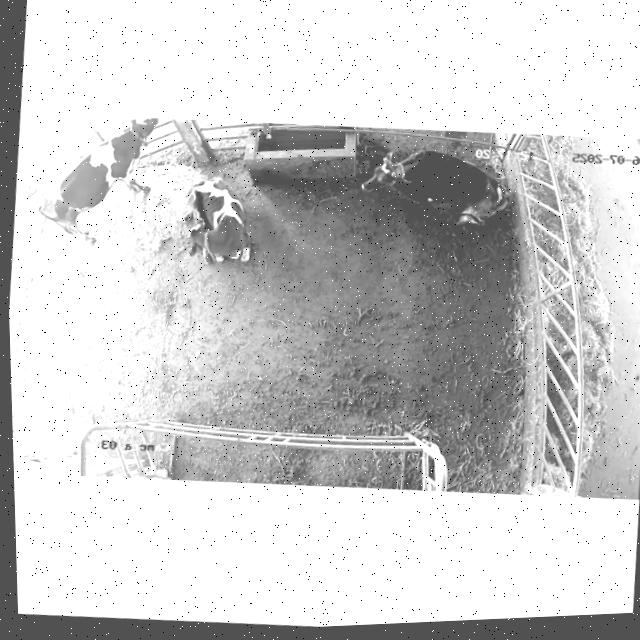stand: (34, 108, 173, 252)
